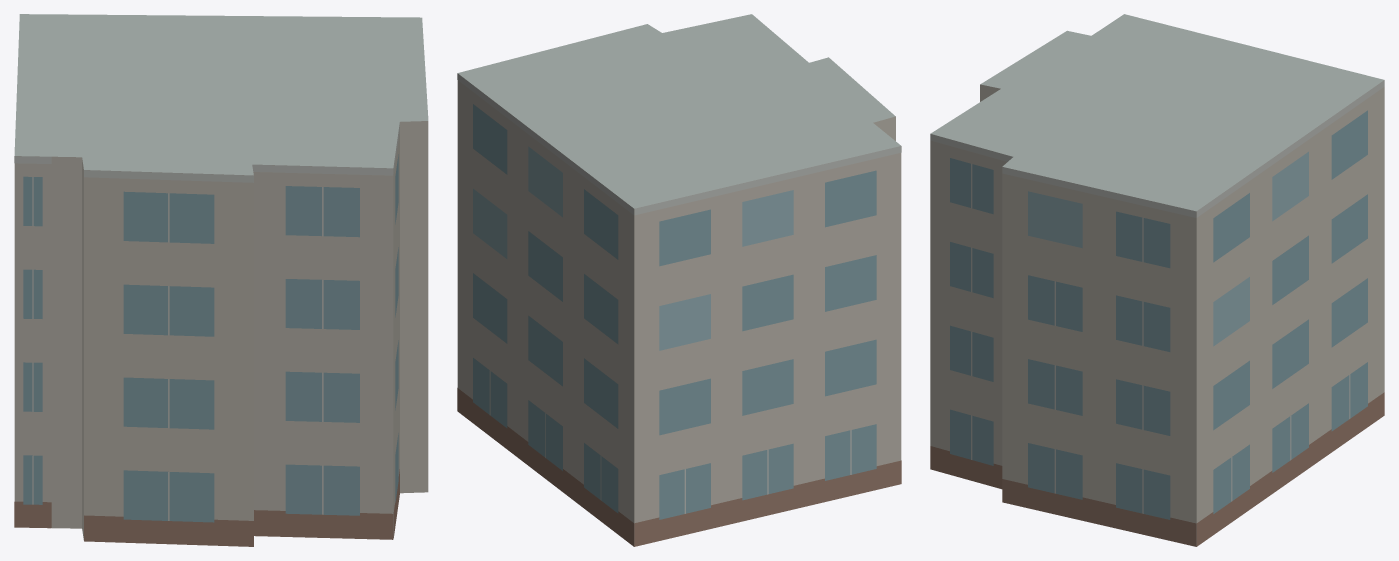
The model's file is survey-upis-32679773.glb.
3 views of the same model, side by side, from view 1: azimuth 30°, elevation 25°; view 2: azimuth 150°, elevation 25°; view 3: azimuth 270°, elevation 25° (orthographic). The views are drawn at different scales.
Visible parts, largest first — view 1: survey-upis-32679773.tmp; view 2: survey-upis-32679773.tmp; view 3: survey-upis-32679773.tmp.
Boxes of the visible parts, x1,y1,x2,y2 form: survey-upis-32679773.tmp: (14, 14, 428, 546); survey-upis-32679773.tmp: (457, 14, 901, 546); survey-upis-32679773.tmp: (930, 14, 1384, 546).
Size of the model in its own units: 15.4 by 12.2 by 14.98.
